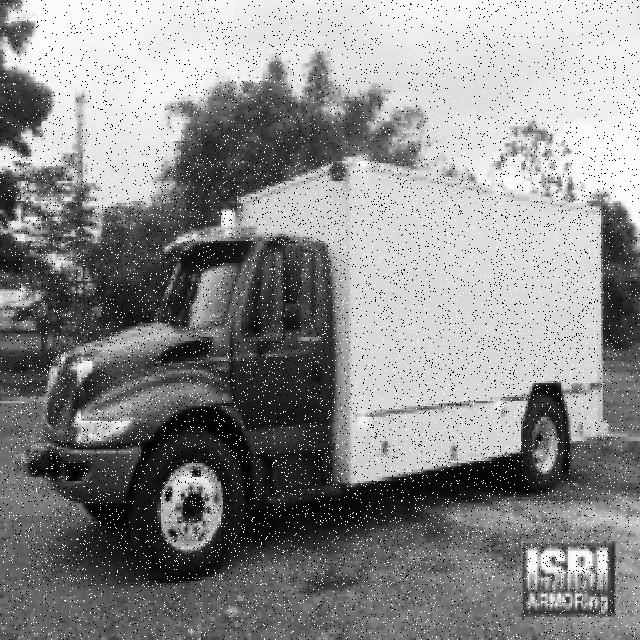Box Truck: (15, 158, 610, 585)
